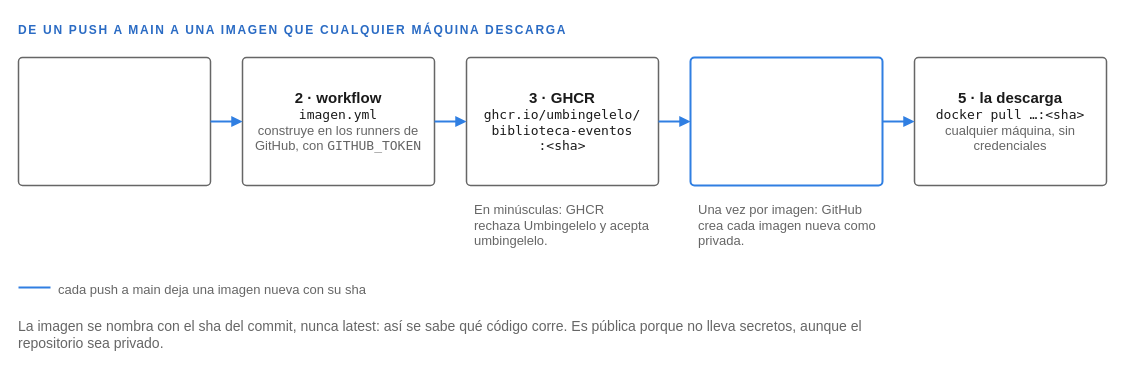
The diagram is 1124 pixels wide and 370 high, and some of its shapes have lost their labels. The box of each missing label's shape, as (x1, y1, x2, y2) in pixels:
1 · push a main git push origin main dispara el workflow: (17, 56, 211, 186)
4 · pública Package settings, Change visibility, Public: (689, 56, 883, 186)
